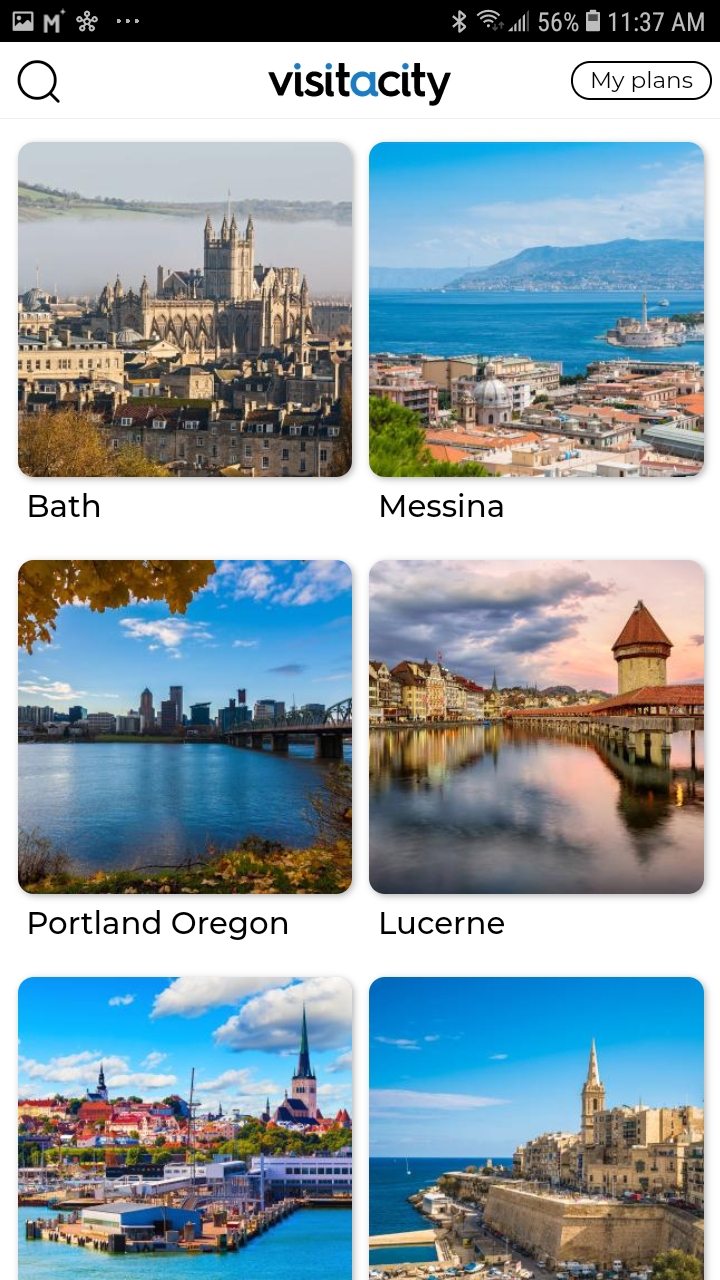Icon: (18, 61, 61, 104)
Image: (369, 142, 704, 478), (18, 560, 353, 895), (369, 560, 704, 894), (19, 143, 353, 478), (369, 977, 704, 1280), (18, 977, 353, 1280), (268, 63, 452, 107)
Text: (29, 910, 288, 941), (381, 493, 503, 518), (381, 911, 504, 935), (29, 493, 101, 518)
TextButton: (571, 61, 713, 101)
UpperTaskBar: (1, 1, 720, 43)
